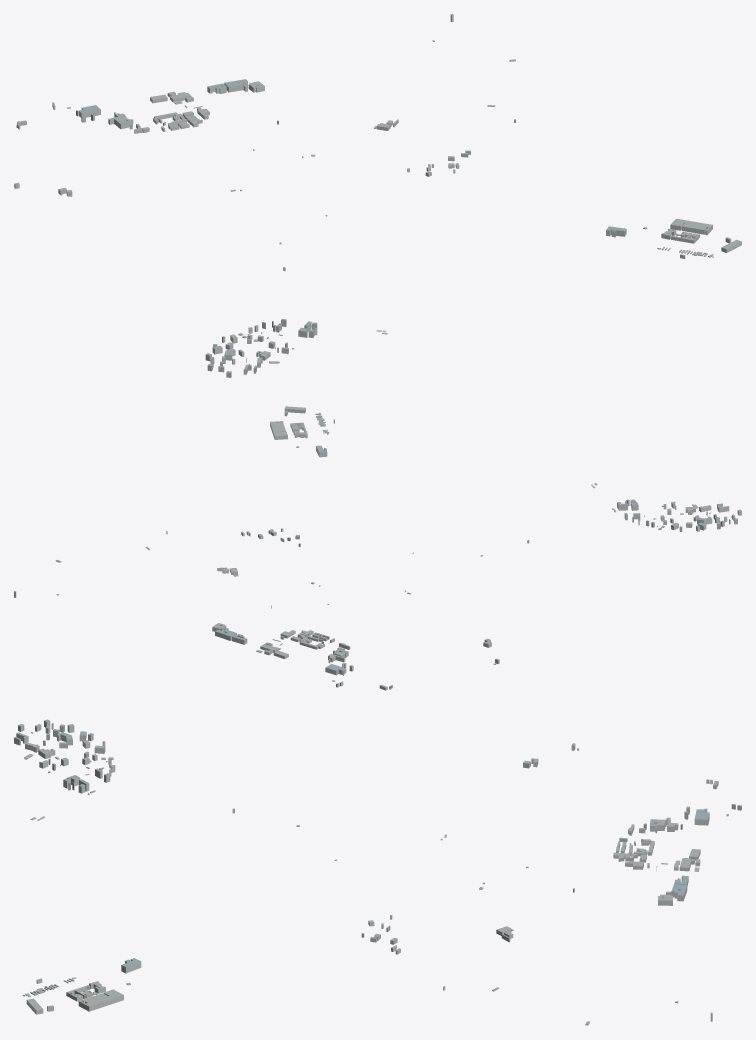
File: far.glb
The picture shows the model from 3 angles, top to bottom: view 1: azimuth 30°, elevation 25°; view 2: azimuth 150°, elevation 25°; view 3: azimuth 270°, elevation 25°; orthographic projection. The views are drawn at different scales.
Bounding box in the file's own units: 2035 × 25.6 × 2086.
